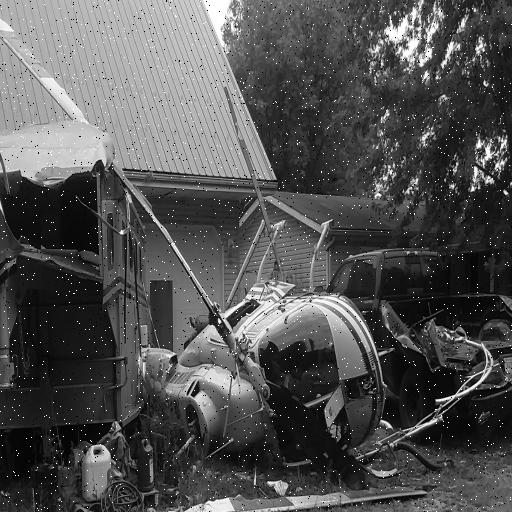helicopter: (142, 173, 403, 474)
